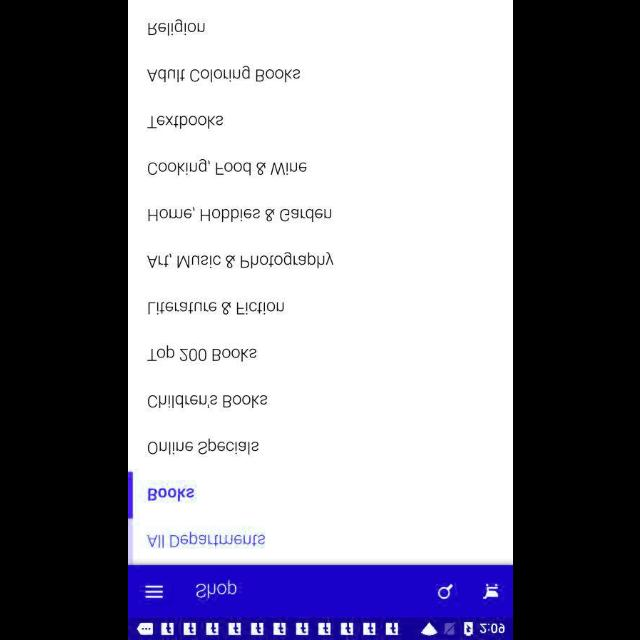icon: (144, 584, 164, 598), (482, 582, 498, 598), (437, 583, 453, 599)
text: (147, 252, 333, 268), (147, 206, 331, 222), (148, 158, 306, 176), (146, 66, 300, 82), (147, 344, 257, 362), (147, 301, 283, 315), (146, 532, 264, 548), (147, 438, 259, 454), (147, 394, 267, 408), (146, 115, 224, 129), (148, 18, 205, 36), (196, 580, 237, 598), (148, 487, 195, 501)
toolbar: (128, 564, 512, 616)
uppertaskbar: (128, 617, 512, 639)
